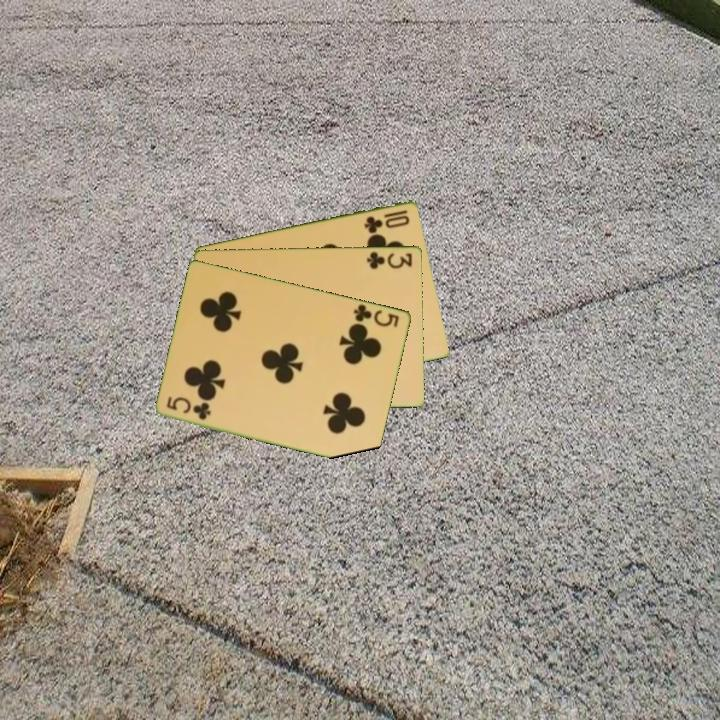10c: (361, 206, 413, 235)
3c: (363, 248, 415, 271)
5c: (350, 300, 402, 330), (163, 393, 214, 423)
